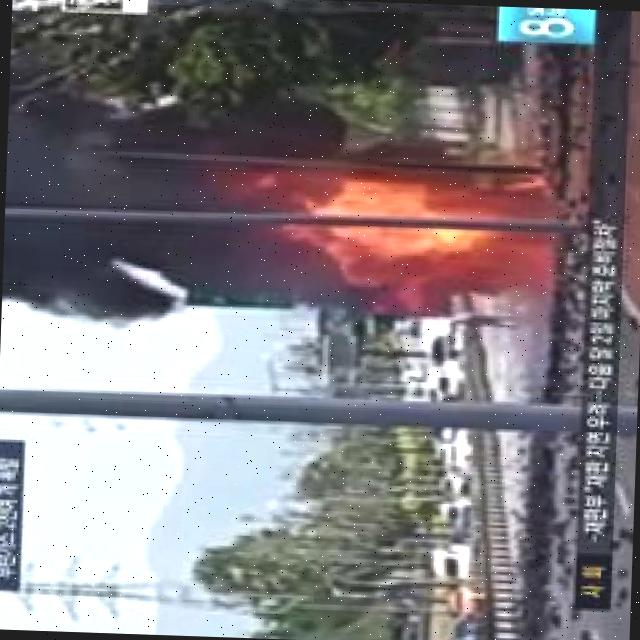fire: (206, 152, 574, 316)
